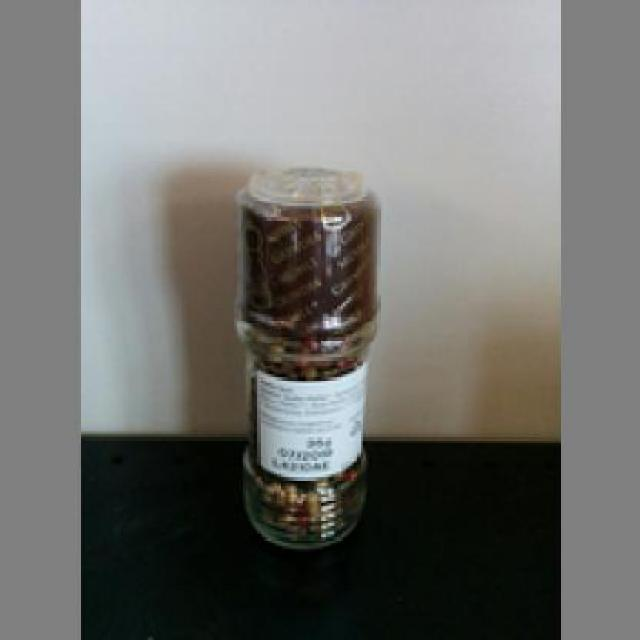Spices: (232, 166, 378, 552)
